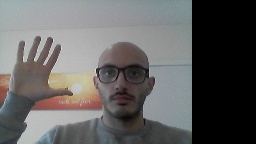Mano_aperta: (6, 34, 74, 105)
